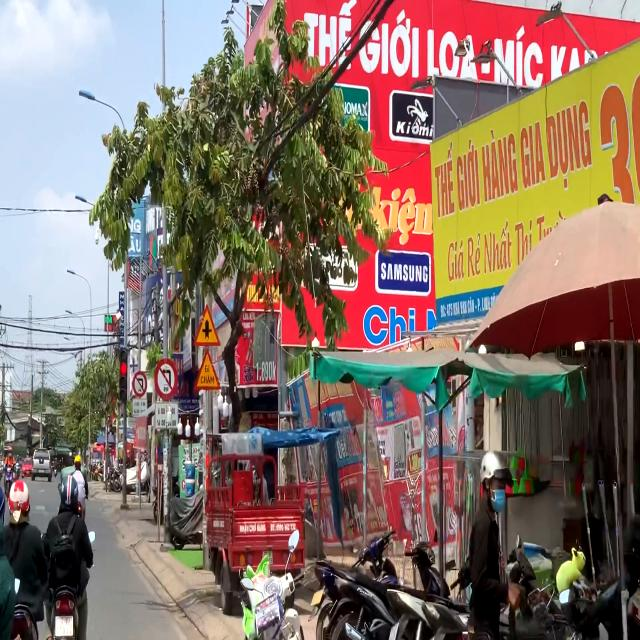P.103c: (155, 359, 178, 400), (132, 372, 147, 398)
W.207a: (192, 302, 222, 352)
W.245a: (193, 347, 223, 397)
